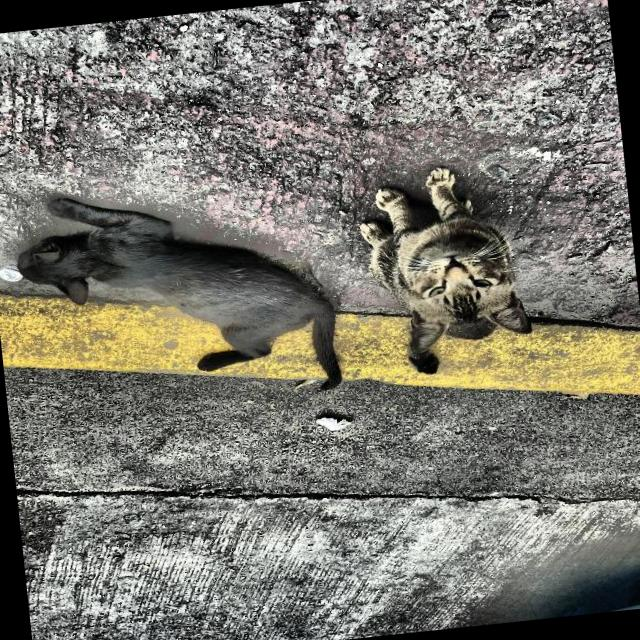Healthy skin: (420, 278, 516, 326), (214, 282, 286, 326)
